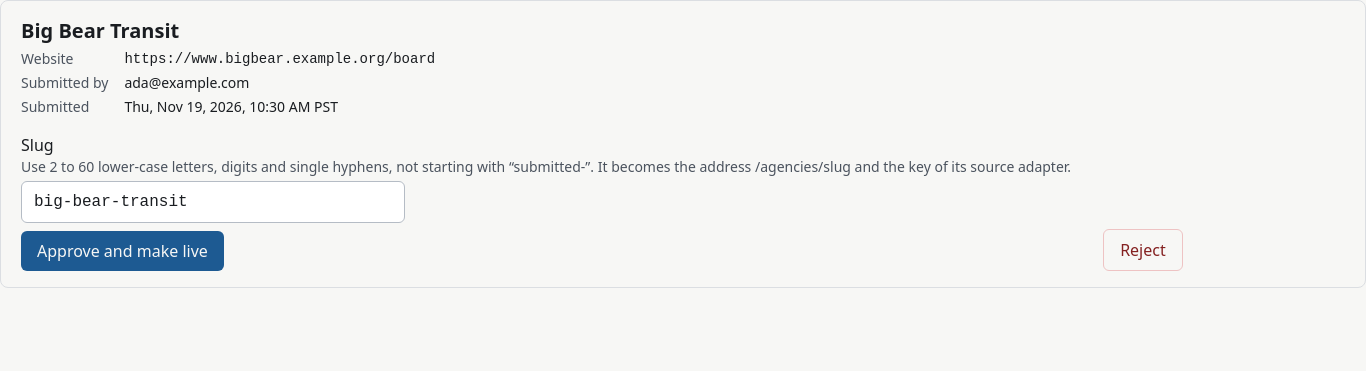
Test case: ReviewItem › rejects with the submission's id
Click the button "Reject".
click(1143, 250)  # box [1103,229,1183,271]
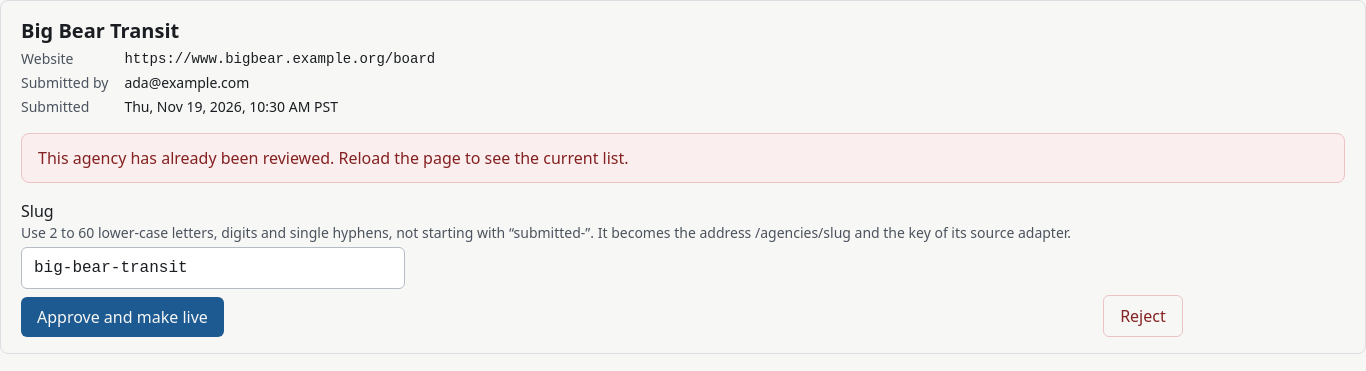
Expected: the message shows "already been reviewed", [38,147,629,169]
